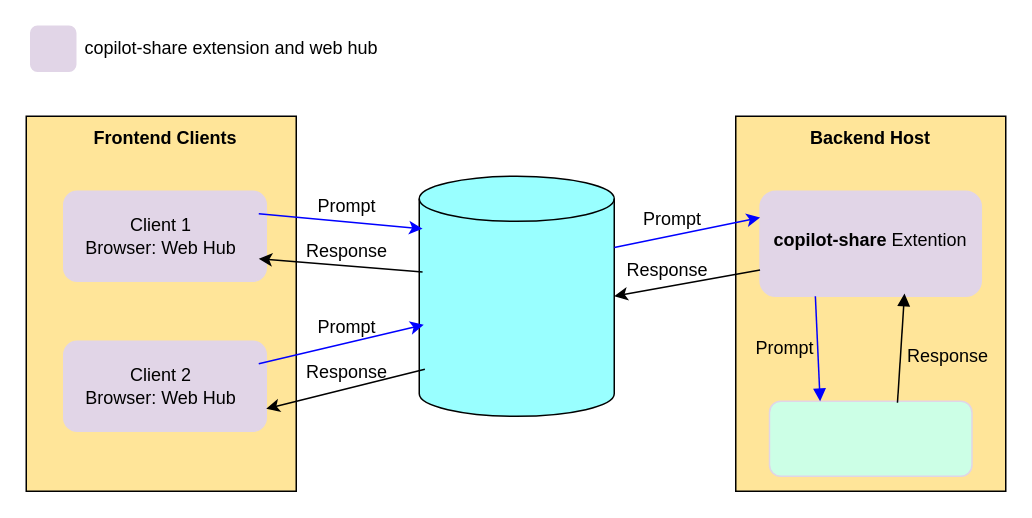
This 1032x518 diagram has some shape labels left out. The centre of each missing label's shape, as x and y in pixels:
"Copilot: Language Model API" goes at point (870, 438).
"Local Area Network (LAN)" goes at point (516, 295).
